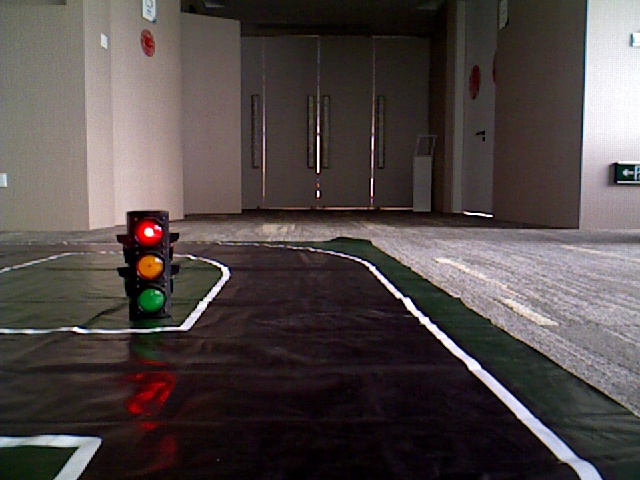red: (129, 213, 167, 313)
